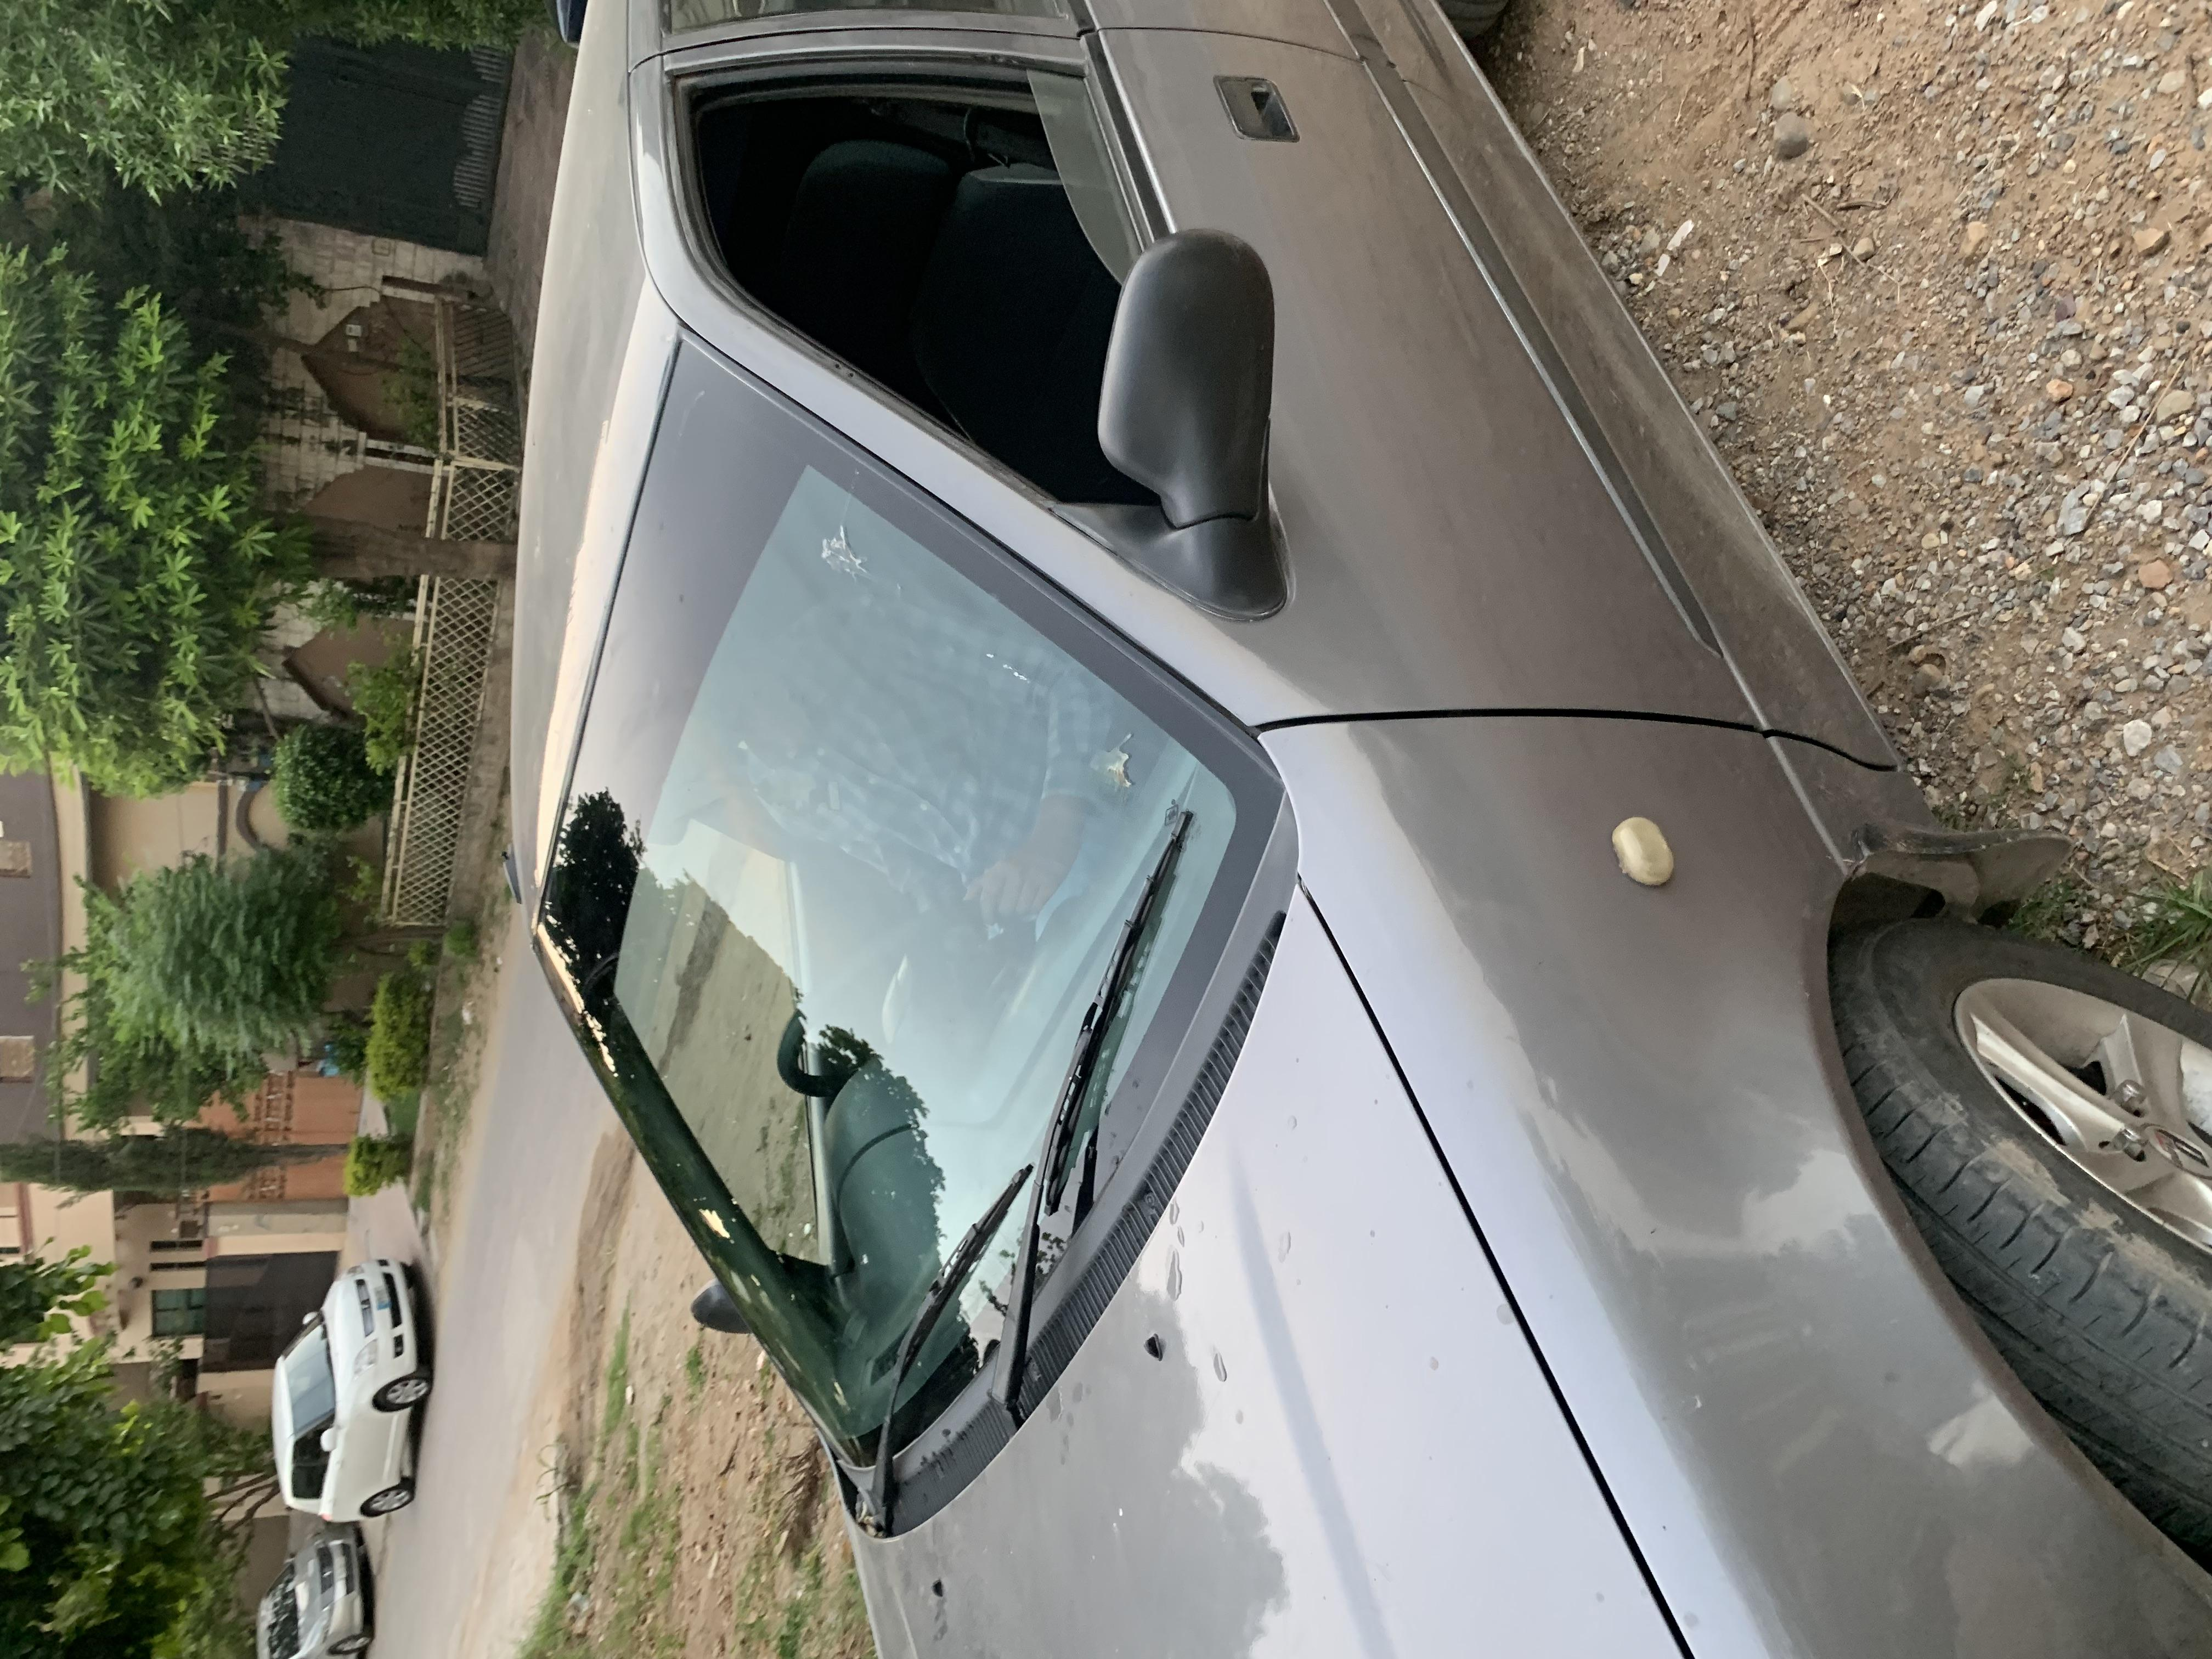windshield: (178, 387, 1803, 995)
